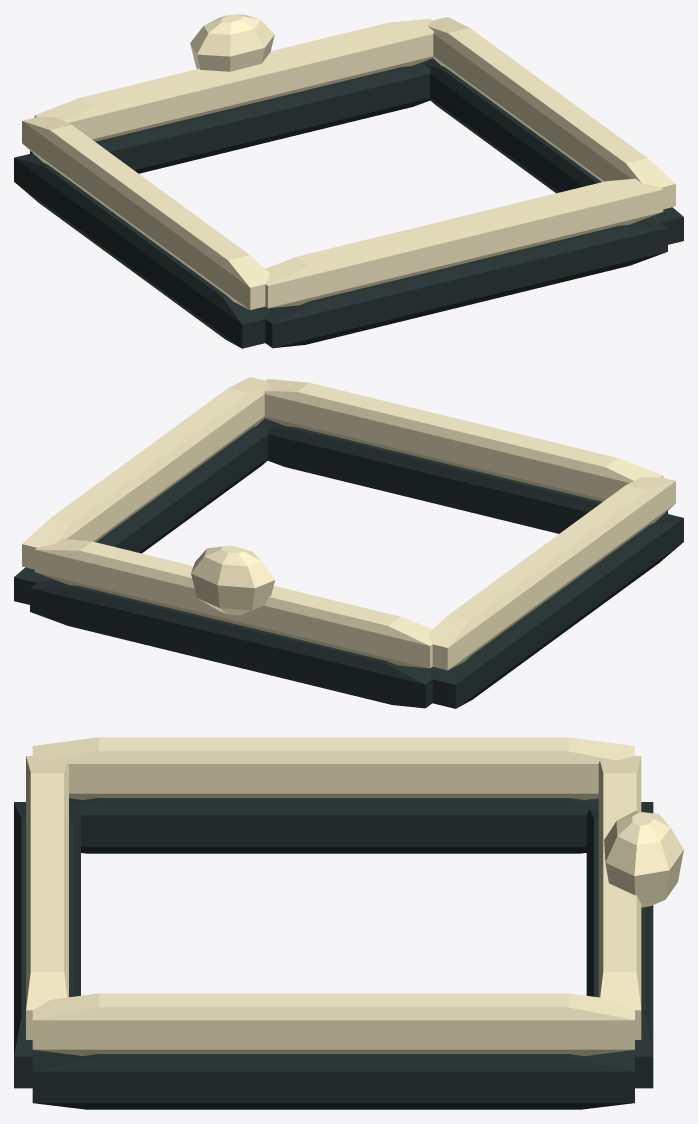
The model's file is selector.obj.
The picture shows the model from 3 angles, top to bottom: view 1: azimuth 30°, elevation 25°; view 2: azimuth 150°, elevation 25°; view 3: azimuth 270°, elevation 25°; orthographic projection. The views are drawn at different scales.
Visible parts, largest first — view 1: selector; view 2: selector; view 3: selector.
Part boxes in pixels (x1,y1,x2,y2): selector: (14, 14, 683, 348); selector: (14, 377, 683, 708); selector: (14, 737, 683, 1109).
Bounding box in the file's own units: 0.362 × 0.0897 × 0.3604.
